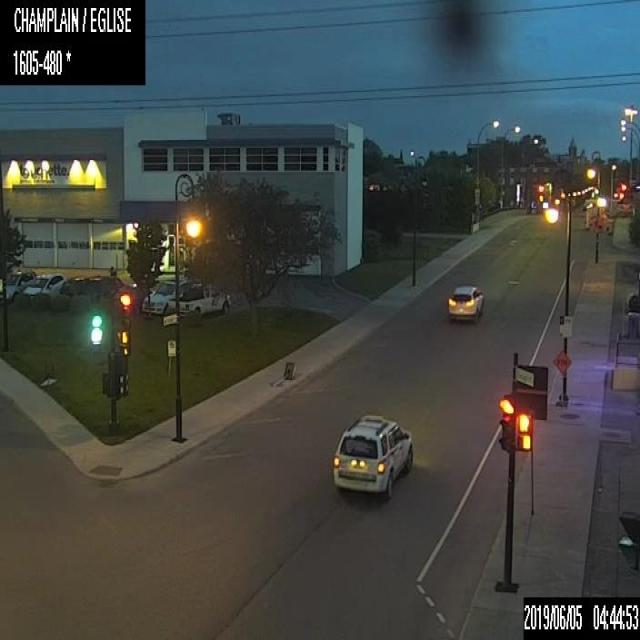construction: (552, 348, 571, 407), (269, 360, 295, 389), (40, 359, 57, 386), (591, 214, 604, 233), (585, 214, 589, 228), (584, 210, 588, 224)
pedestrian: (109, 266, 117, 276)
vehicle: (331, 413, 413, 499), (168, 282, 230, 316), (142, 279, 186, 315), (444, 284, 484, 317), (23, 272, 66, 299), (5, 267, 36, 300), (116, 282, 146, 310), (86, 274, 124, 296), (59, 275, 90, 297)
